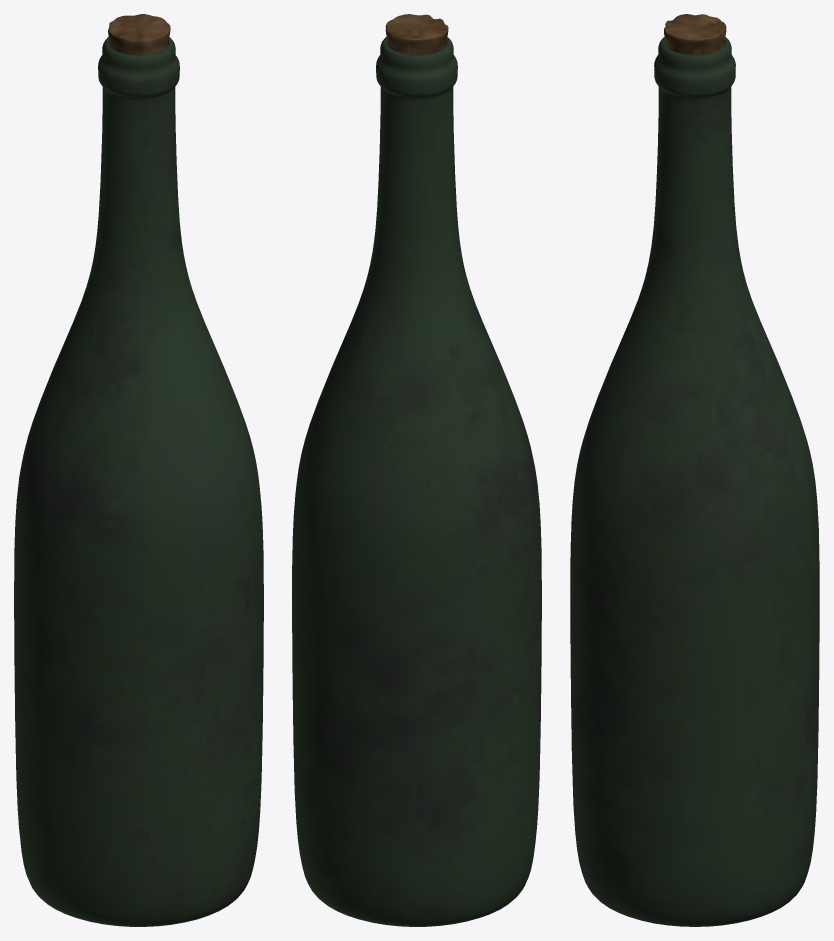
The model's file is s_botella.glb.
3 renders of one model, left to right at view 1: azimuth 30°, elevation 25°; view 2: azimuth 150°, elevation 25°; view 3: azimuth 270°, elevation 25°, orthographic.
Parts seen in each view (by area): view 1: Object_2; view 2: Object_2; view 3: Object_2.
Part boxes in pixels (x1,y1,x2,y2): Object_2: (14,14,263,926); Object_2: (292,14,541,926); Object_2: (570,14,819,926).
Size of the model in its own units: 0.0792 by 0.3 by 0.079.
Materials: 2 (2 with a texture image).
